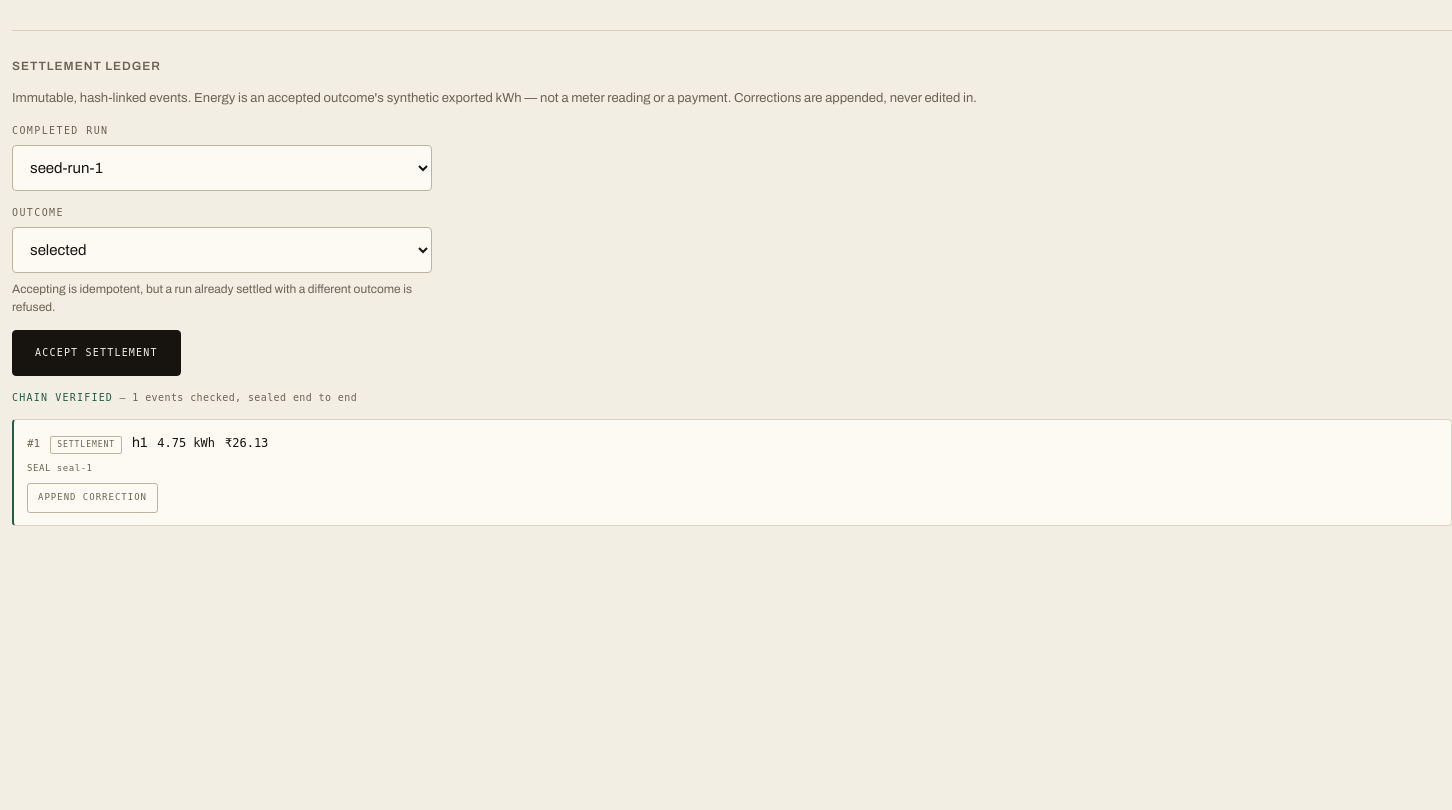
Scenario: LedgerPanel settlement › accepts the chosen outcome
Select "p90" in the dropdown labelled "OUTCOME": {"x": 222, "y": 250} [12, 226, 432, 272]
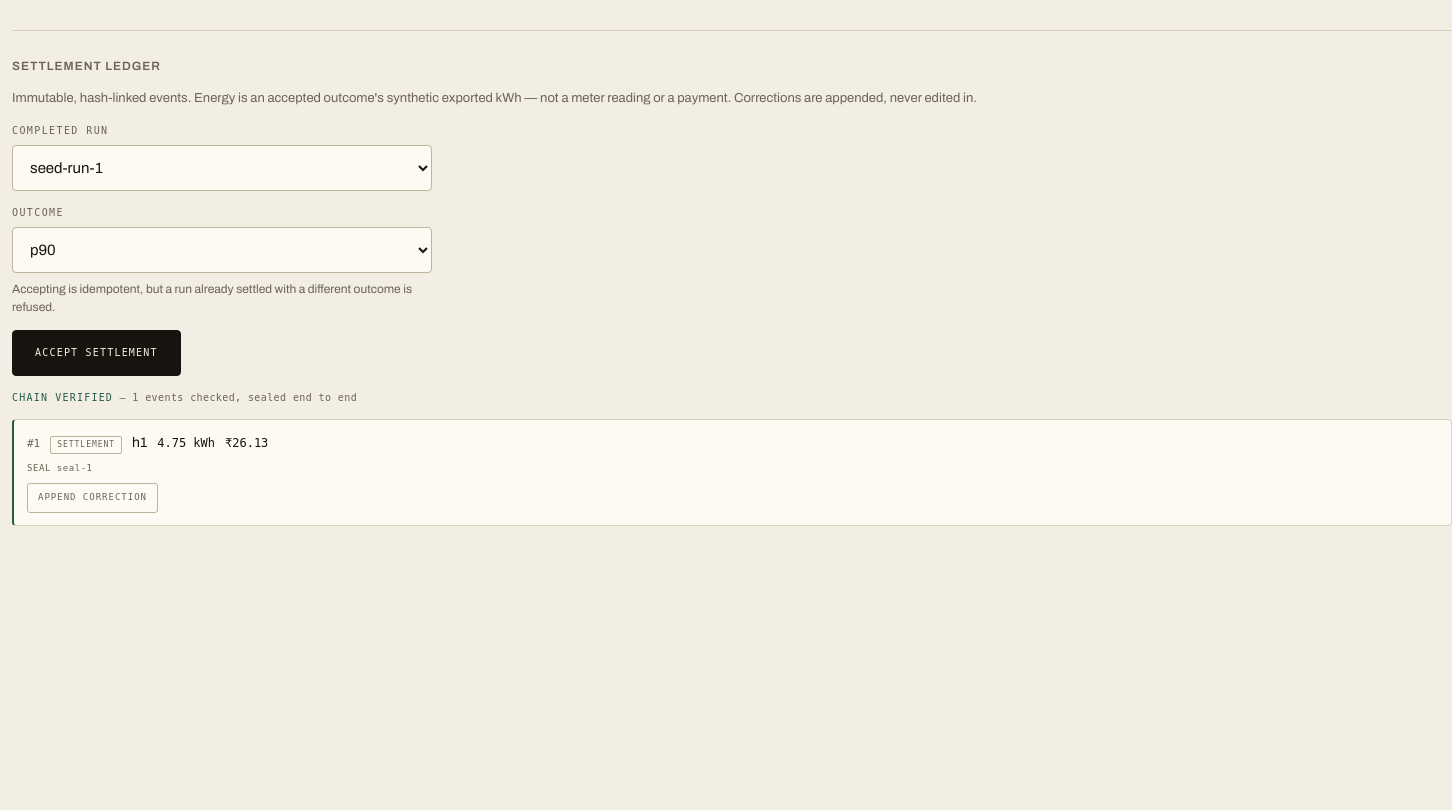
Click the button "ACCEPT SETTLEMENT": {"x": 96, "y": 352} [12, 330, 181, 376]
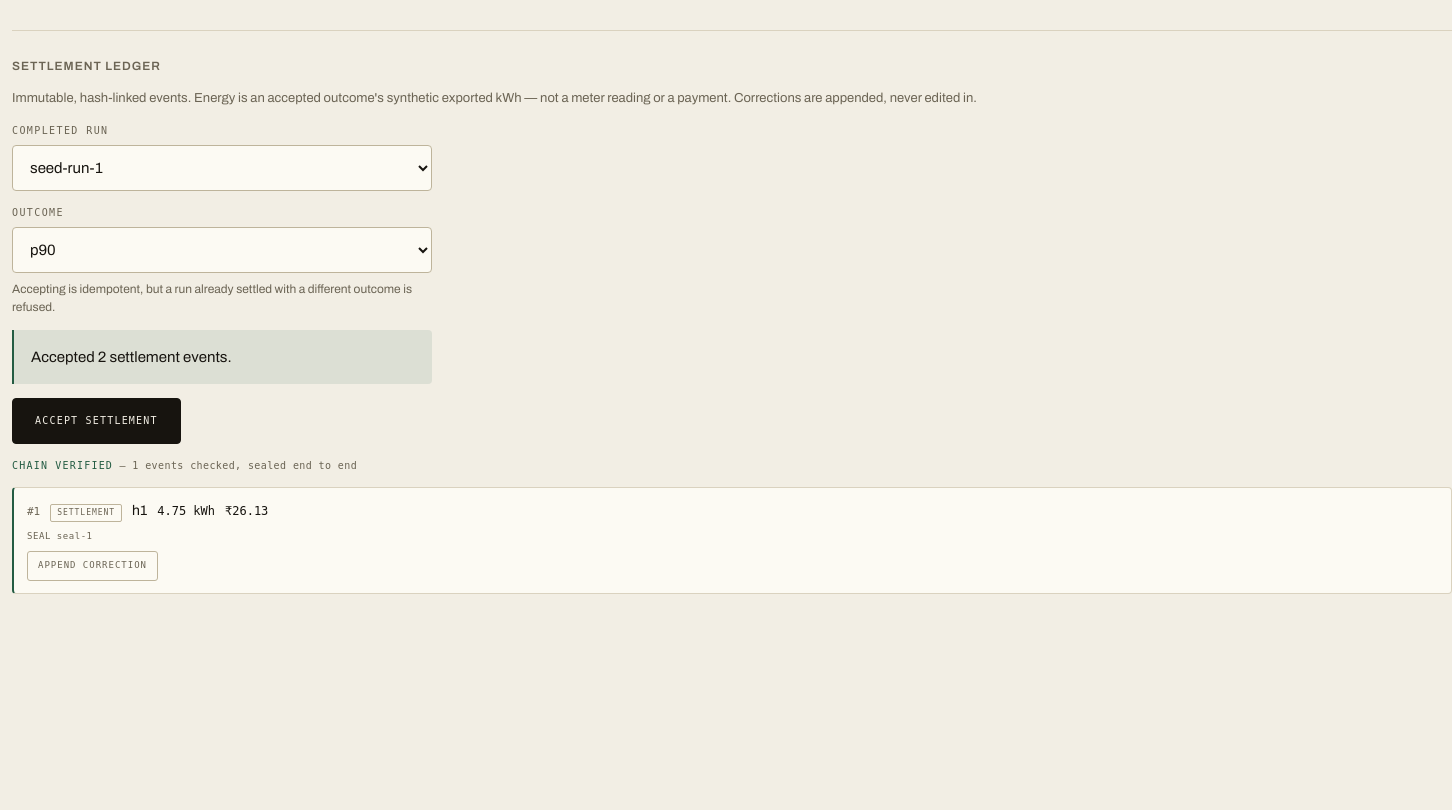
expect the message shows "Accepted 2 settlement events": met, box [31, 348, 232, 364]
